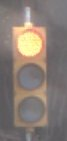Red: (10, 22, 55, 135)
